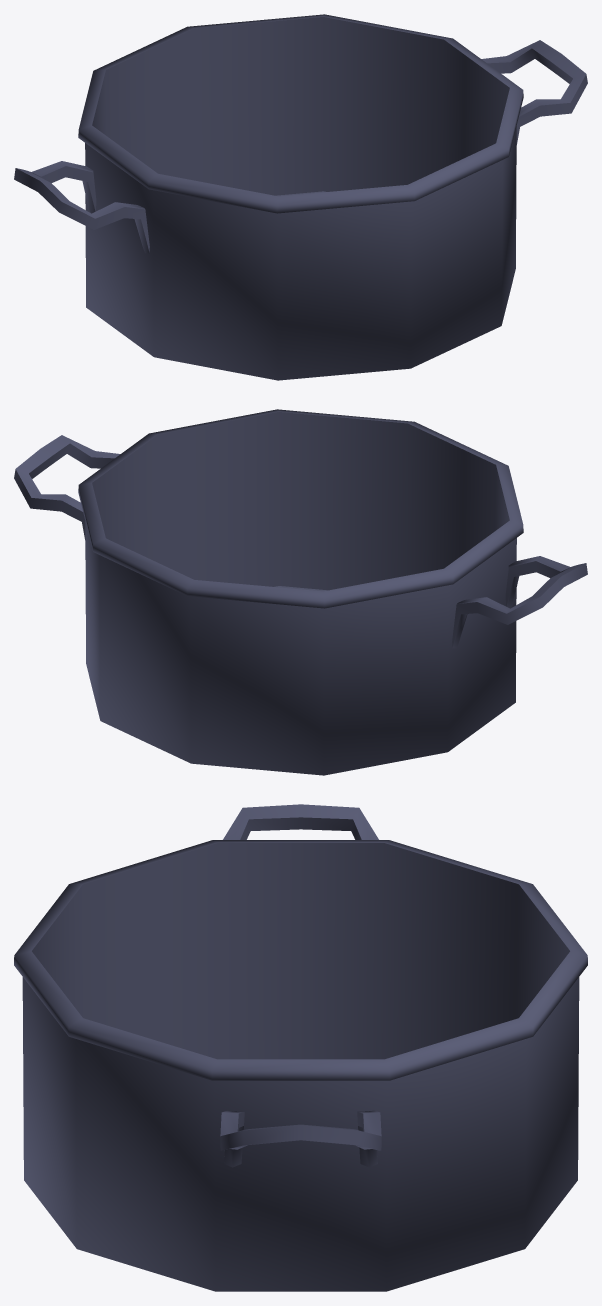
File: DeepPan.fbx
3 renders of one model, top to bottom at view 1: azimuth 30°, elevation 25°; view 2: azimuth 150°, elevation 25°; view 3: azimuth 270°, elevation 25°, orthographic. The views are drawn at different scales.
Parts seen in each view (by area): view 1: DeepPan; view 2: DeepPan; view 3: DeepPan.
Part boxes in pixels (x1=…): DeepPan: x1=14, y1=14, x2=587, y2=380; DeepPan: x1=14, y1=409, x2=587, y2=775; DeepPan: x1=14, y1=804, x2=587, y2=1291.
Size of the model in its own units: 127 by 41.75 by 94.81.
